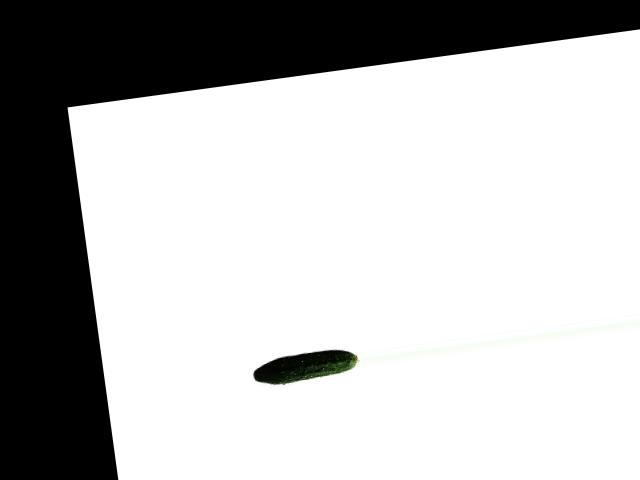cucumber: (251, 346, 359, 387)
